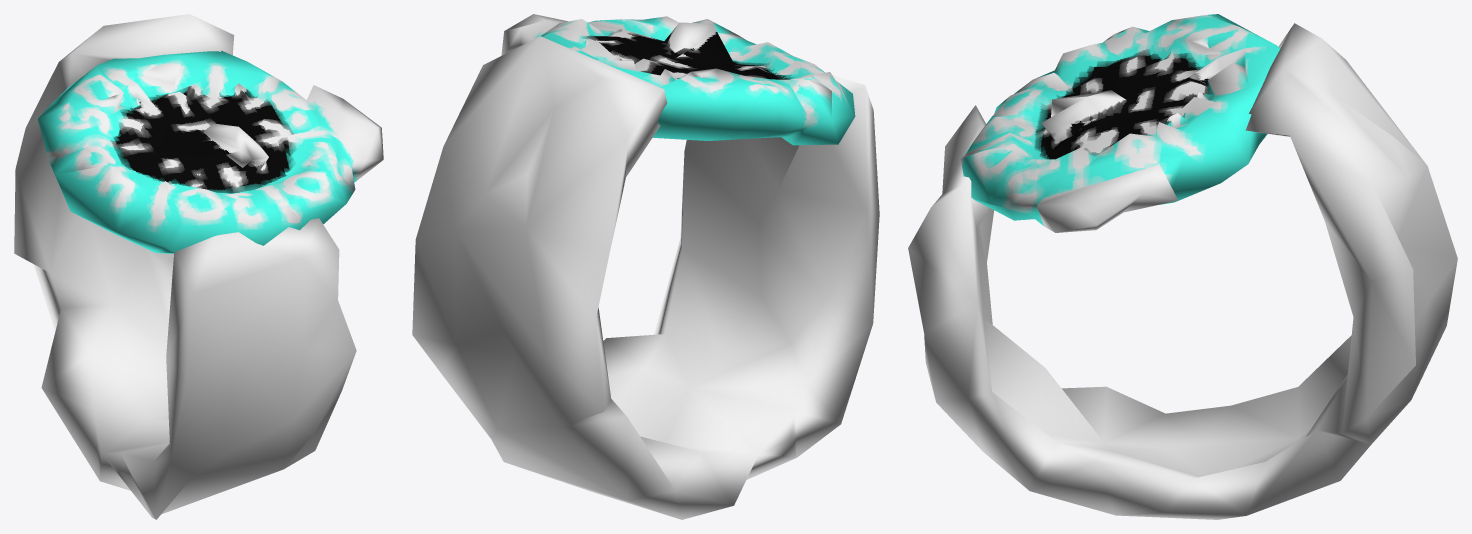
The model's file is sub turquoise.glb.
The picture shows the model from 3 angles, left to right: view 1: azimuth 30°, elevation 25°; view 2: azimuth 150°, elevation 25°; view 3: azimuth 270°, elevation 25°; orthographic projection. The views are drawn at different scales.
Parts seen in each view (by area): view 1: watch_sub_turquoise.001; view 2: watch_sub_turquoise.001; view 3: watch_sub_turquoise.001.
Part boxes in pixels (x1,y1,x2,y2): watch_sub_turquoise.001: (14, 14, 383, 519); watch_sub_turquoise.001: (412, 14, 879, 519); watch_sub_turquoise.001: (908, 14, 1457, 519).
Size of the model in its own units: 0.0377 by 0.0491 by 0.0512.
Materials: 2 (2 with a texture image).
